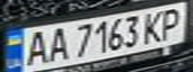1: (90, 18, 112, 54)
3: (121, 12, 145, 48)
6: (106, 16, 127, 52)
7: (69, 20, 93, 58)
A: (18, 28, 51, 66), (42, 25, 72, 62)
K: (139, 8, 169, 43)
P: (154, 6, 190, 40)
